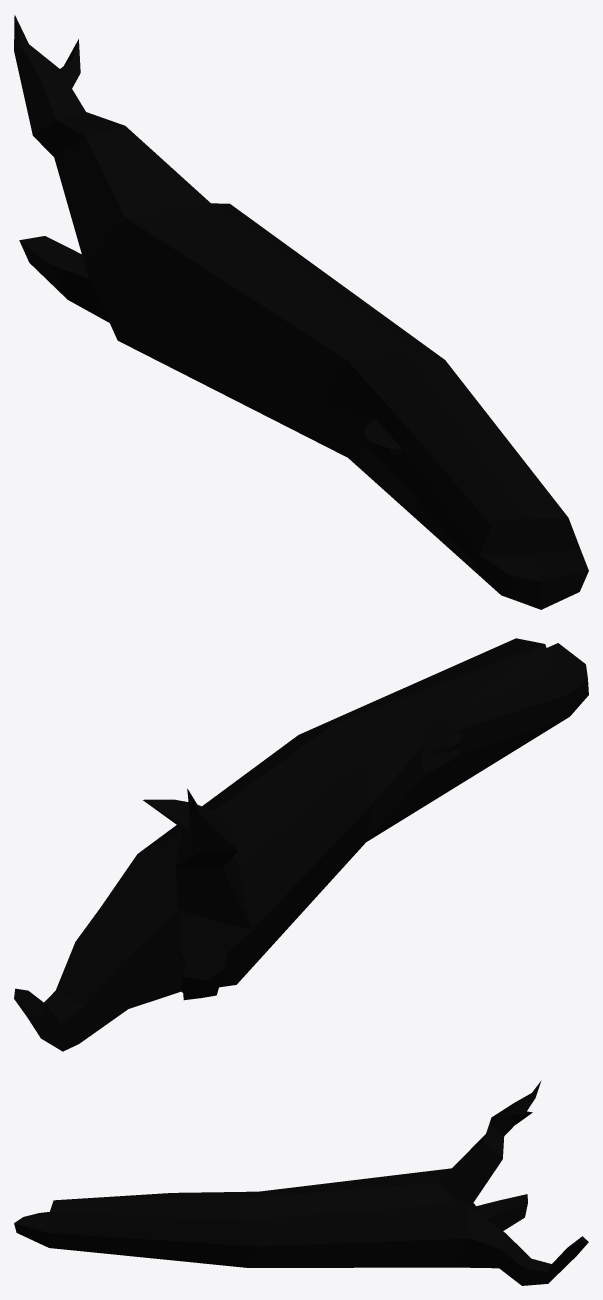
The model's file is Fallen_Tree.fbx.
3 views of the same model, one above another, from view 1: azimuth 30°, elevation 25°; view 2: azimuth 150°, elevation 25°; view 3: azimuth 270°, elevation 25° (orthographic). The views are drawn at different scales.
Parts seen in each view (by area): view 1: Cube; view 2: Cube; view 3: Cube.
Boxes of the visible parts, x1=… form: Cube: x1=14, y1=15, x2=588, y2=609; Cube: x1=14, y1=638, x2=588, y2=1051; Cube: x1=14, y1=1080, x2=588, y2=1285.
Size of the model in its own units: 1 by 1.55 by 4.76.
